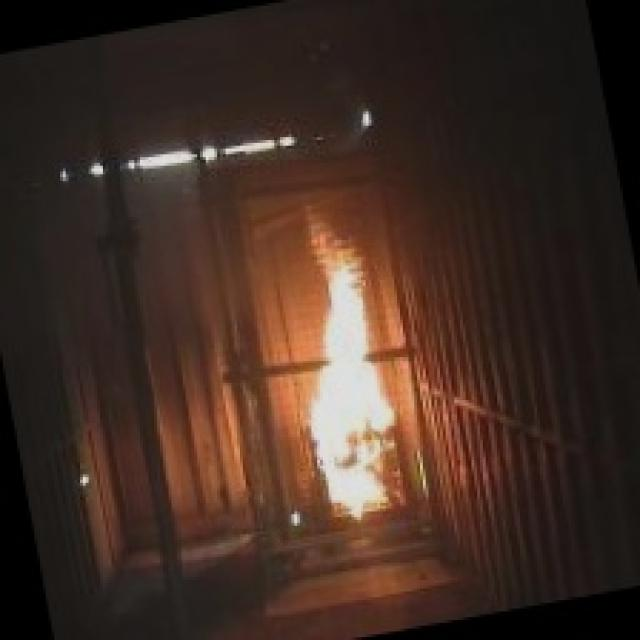fire: (262, 206, 427, 520)
